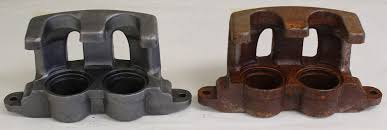rust: (194, 3, 386, 124)
